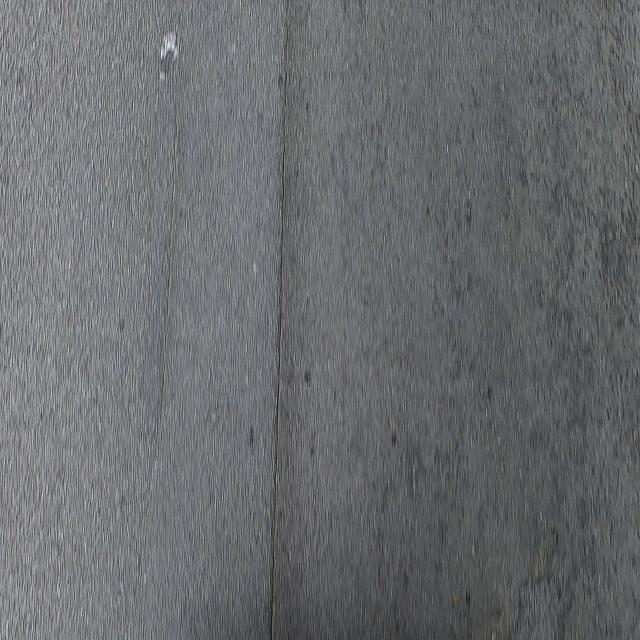Retak-Memanjang: (264, 80, 289, 640)
